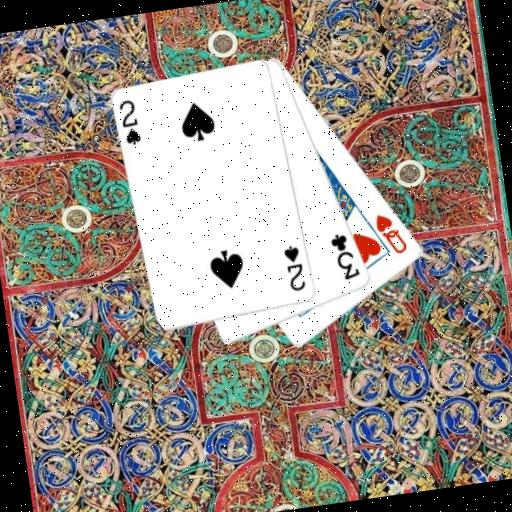2S: (281, 241, 309, 294), (116, 96, 144, 149)
3C: (327, 228, 363, 284)
QH: (371, 208, 410, 259)
